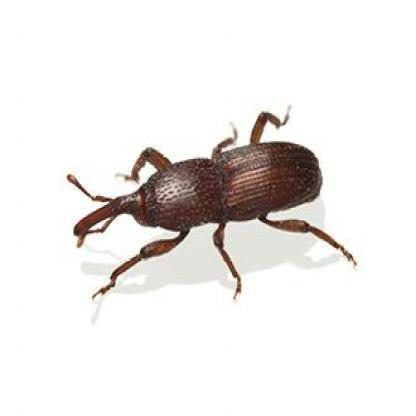rice-bug: (75, 120, 336, 289)
